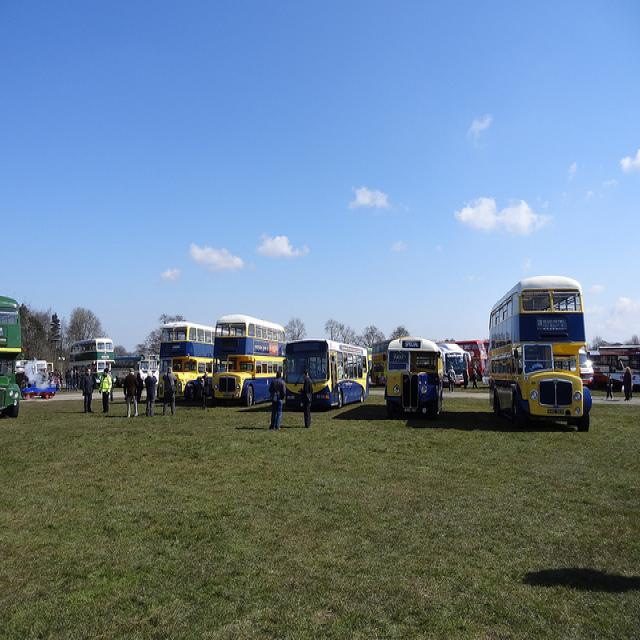Vehicle: (487, 274, 591, 433), (210, 316, 288, 408), (285, 342, 373, 412), (384, 335, 444, 417), (156, 322, 215, 404), (1, 296, 23, 414), (66, 338, 115, 390), (598, 344, 640, 384), (111, 354, 160, 388), (372, 336, 401, 387), (438, 343, 472, 383), (454, 341, 486, 380)
